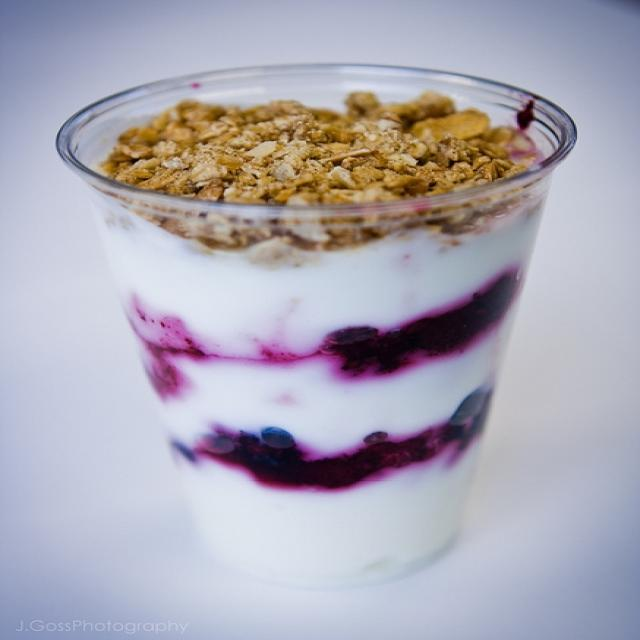蛋糕甜品: (36, 39, 598, 608)
